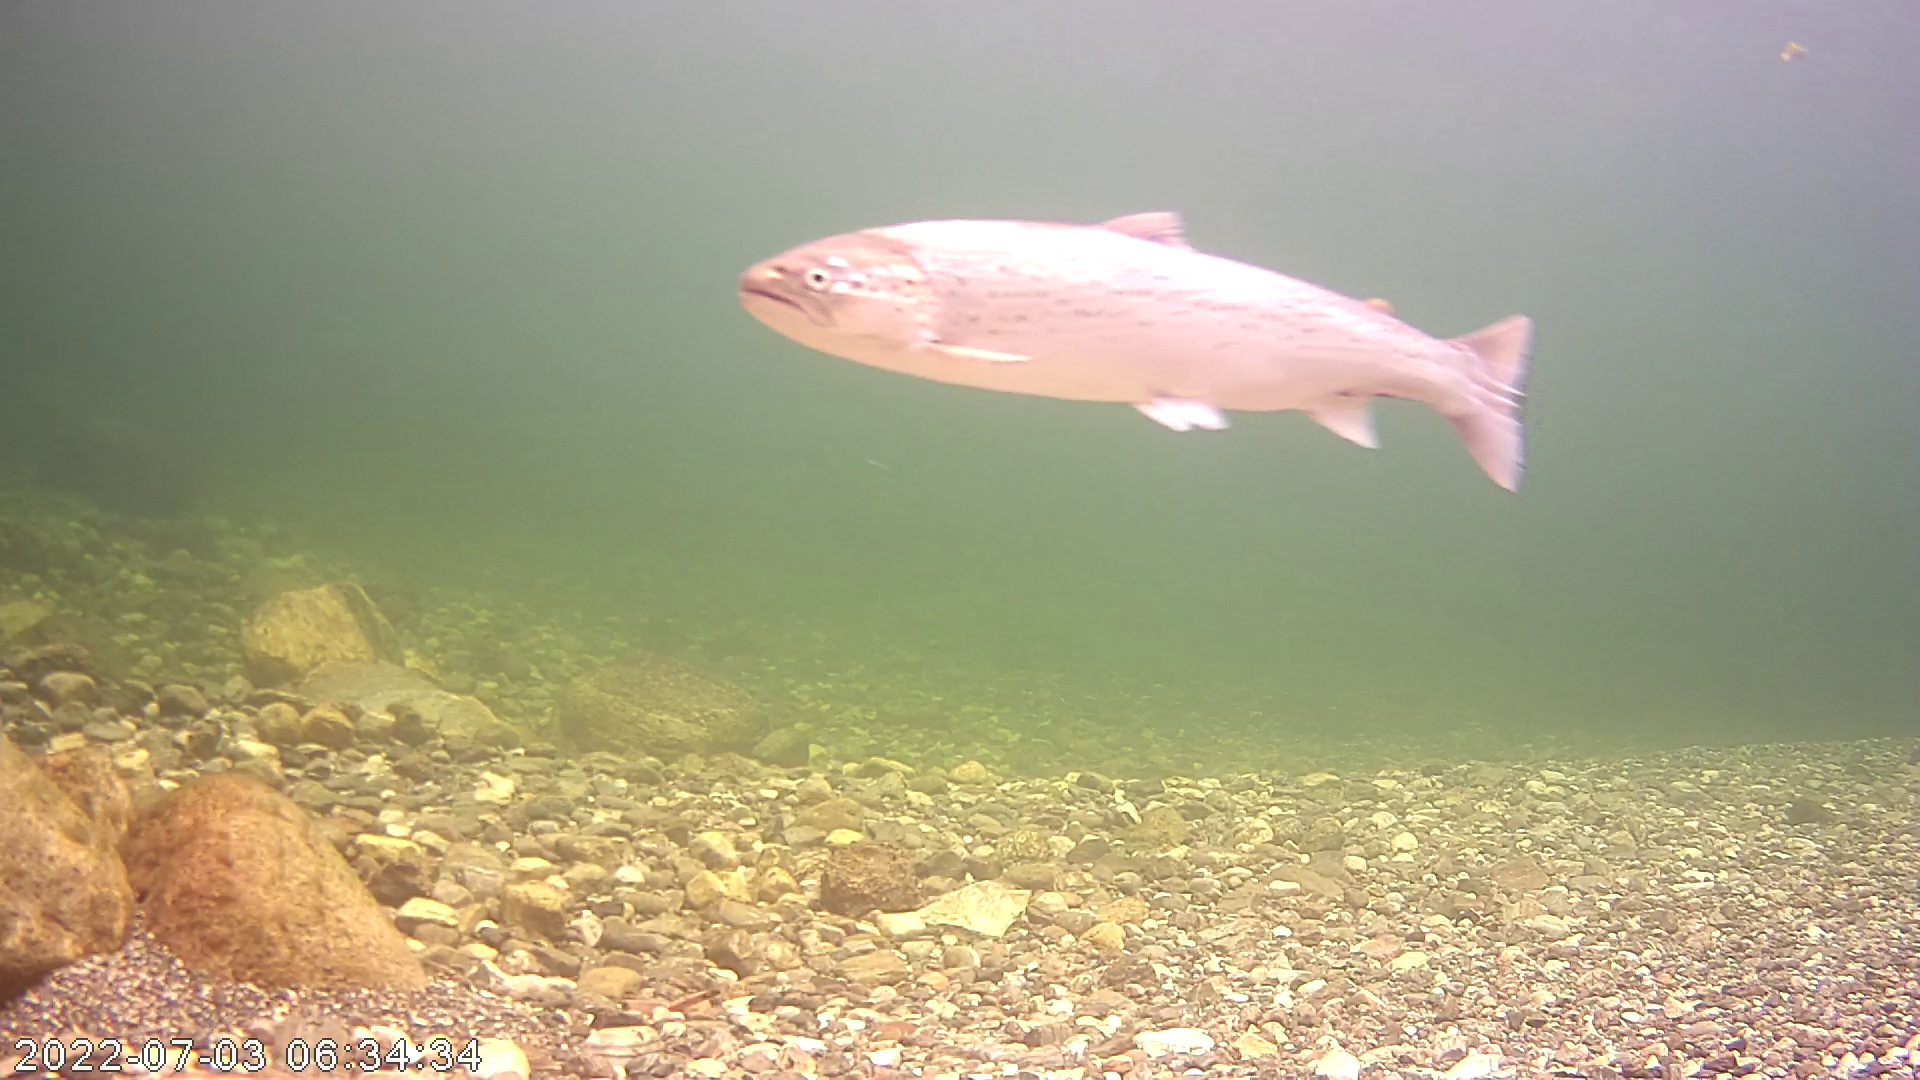salmon: (733, 204, 1536, 495)
